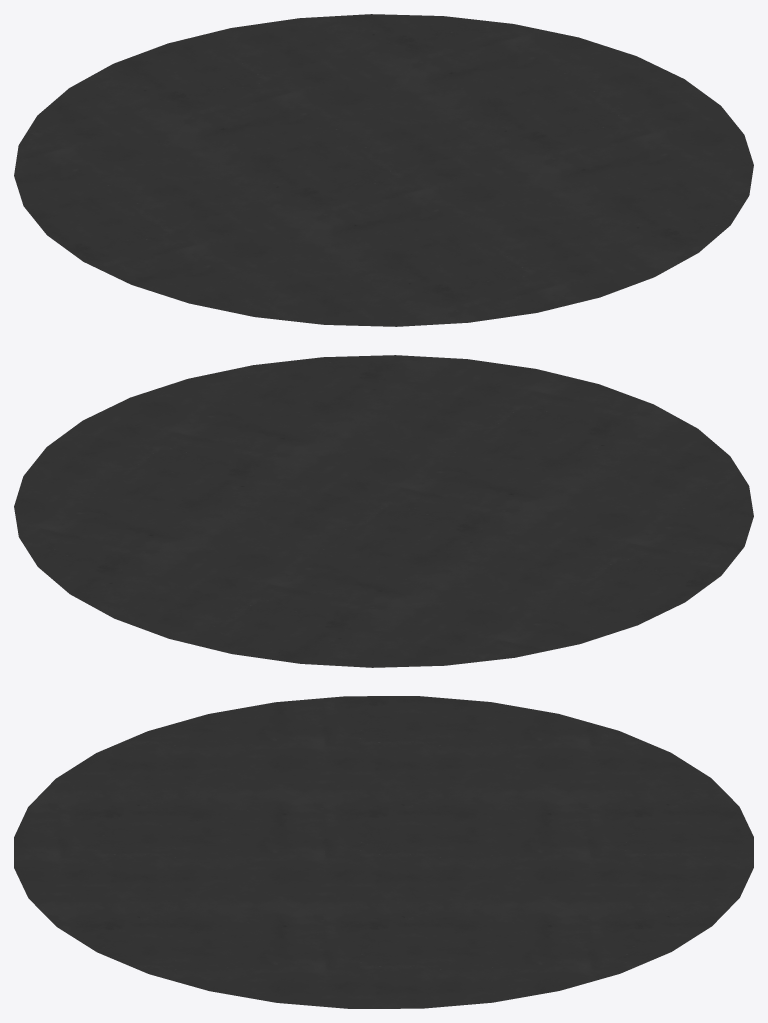
Rendered from floor.glb.
3 views of the same model, one above another, from view 1: azimuth 30°, elevation 25°; view 2: azimuth 150°, elevation 25°; view 3: azimuth 270°, elevation 25° (orthographic).
Visible parts, largest first — view 1: 円; view 2: 円; view 3: 円.
Boxes of the visible parts, <box> form: 円: <box>14,14,753,326</box>; 円: <box>14,355,753,667</box>; 円: <box>14,696,753,1008</box>.
Size of the model in its own units: 33.57 by 0 by 33.57.
Materials: 1 (1 with a texture image).
